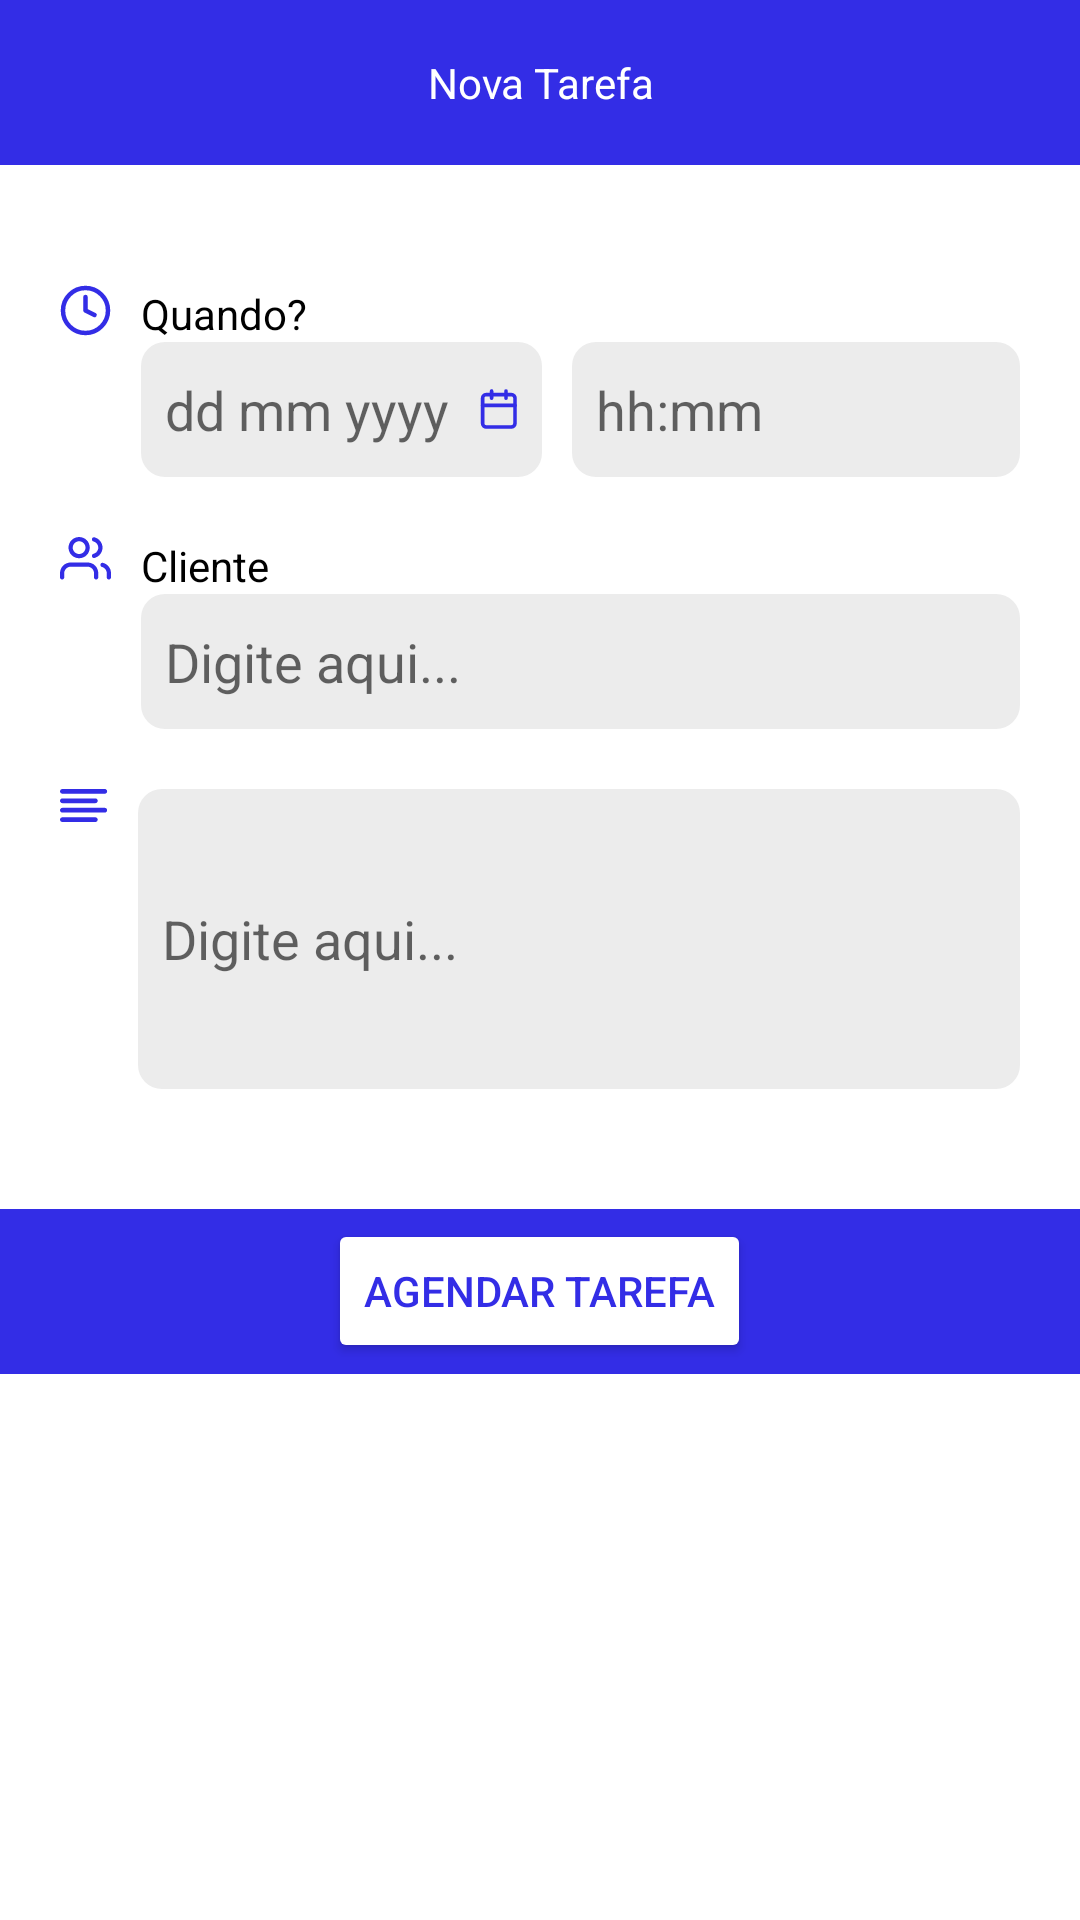

Icons on this 1080px×1920px Android screen, each with its box as box(x1, y1, x2, y2):
align left: box(60, 789, 107, 822)
clock: box(60, 285, 111, 336)
users: box(60, 537, 111, 580)
